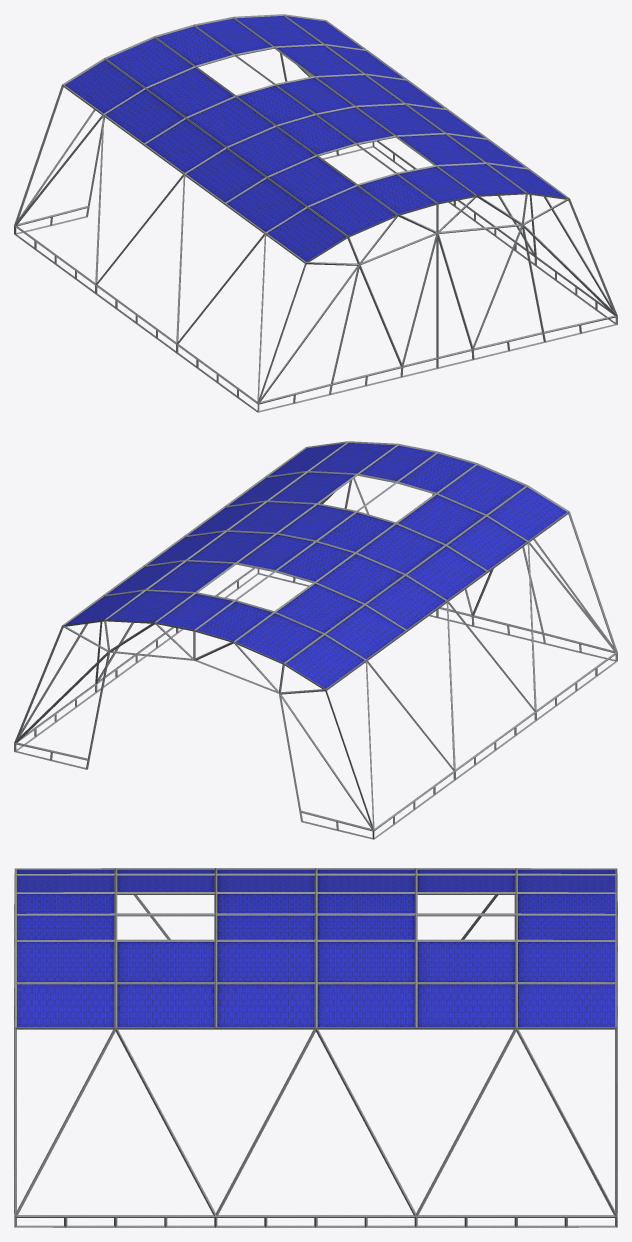
The model's file is stadium.glb.
The picture shows the model from 3 angles, top to bottom: view 1: azimuth 30°, elevation 25°; view 2: azimuth 150°, elevation 25°; view 3: azimuth 270°, elevation 25°; orthographic projection. The views are drawn at different scales.
Visible parts, largest first — view 1: TentCanopy_0; view 2: TentCanopy_0; view 3: TentCanopy_0.
Boxes of the visible parts, left/top/right/bottom form: TentCanopy_0: left=14, top=14, right=617, bottom=412; TentCanopy_0: left=14, top=441, right=617, bottom=839; TentCanopy_0: left=14, top=868, right=617, bottom=1227.
Bounding box in the file's own units: 41.17 × 18.12 × 48.27.
Materials: 1 (1 with a texture image).
